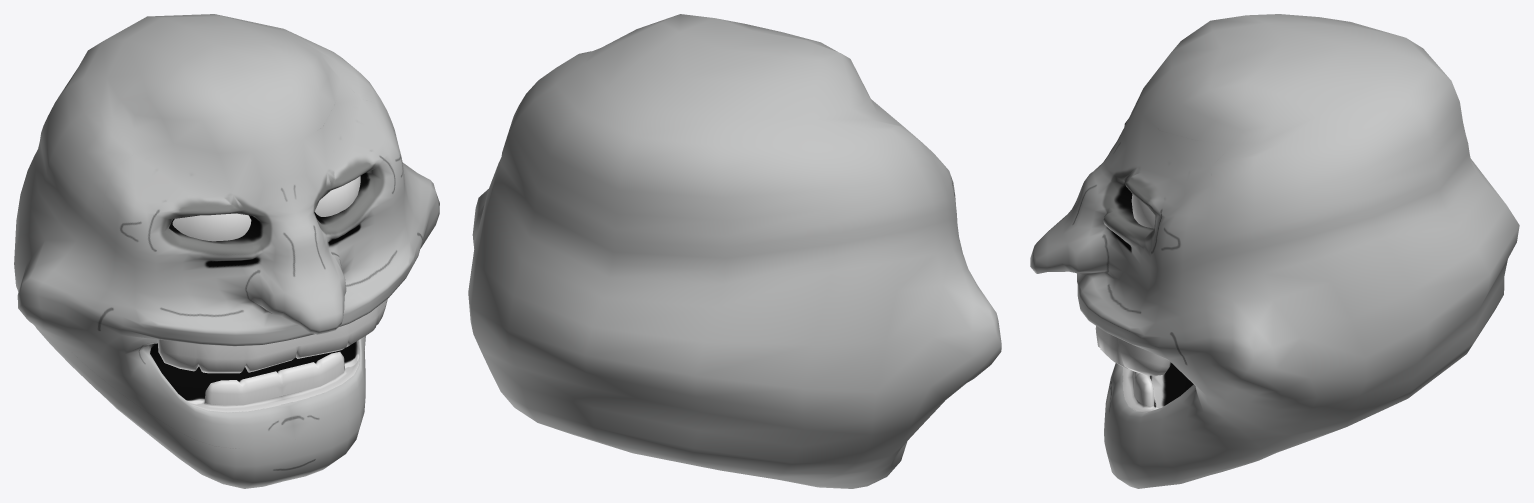
Rendered from Trollface.fbx.
3 renders of one model, left to right at view 1: azimuth 30°, elevation 25°; view 2: azimuth 150°, elevation 25°; view 3: azimuth 270°, elevation 25°, orthographic. The views are drawn at different scales.
Visible parts, largest first — view 1: Plane, Plane.001, Plane.002, Sphere; view 2: Plane; view 3: Plane, Plane.001, Plane.002.
Boxes of the visible parts, box(x1,y1,x2,y2) form: Plane: box(14, 14, 439, 488); Plane.001: box(157, 299, 387, 373); Plane.002: box(204, 352, 344, 405); Sphere: box(172, 176, 360, 241); Plane: box(468, 14, 1001, 488); Plane: box(1030, 14, 1519, 488); Plane.001: box(1095, 326, 1170, 375); Plane.002: box(1133, 371, 1154, 406).
Size of the model in its own units: 164 by 144 by 151.
Materials: 2 (2 with a texture image).
